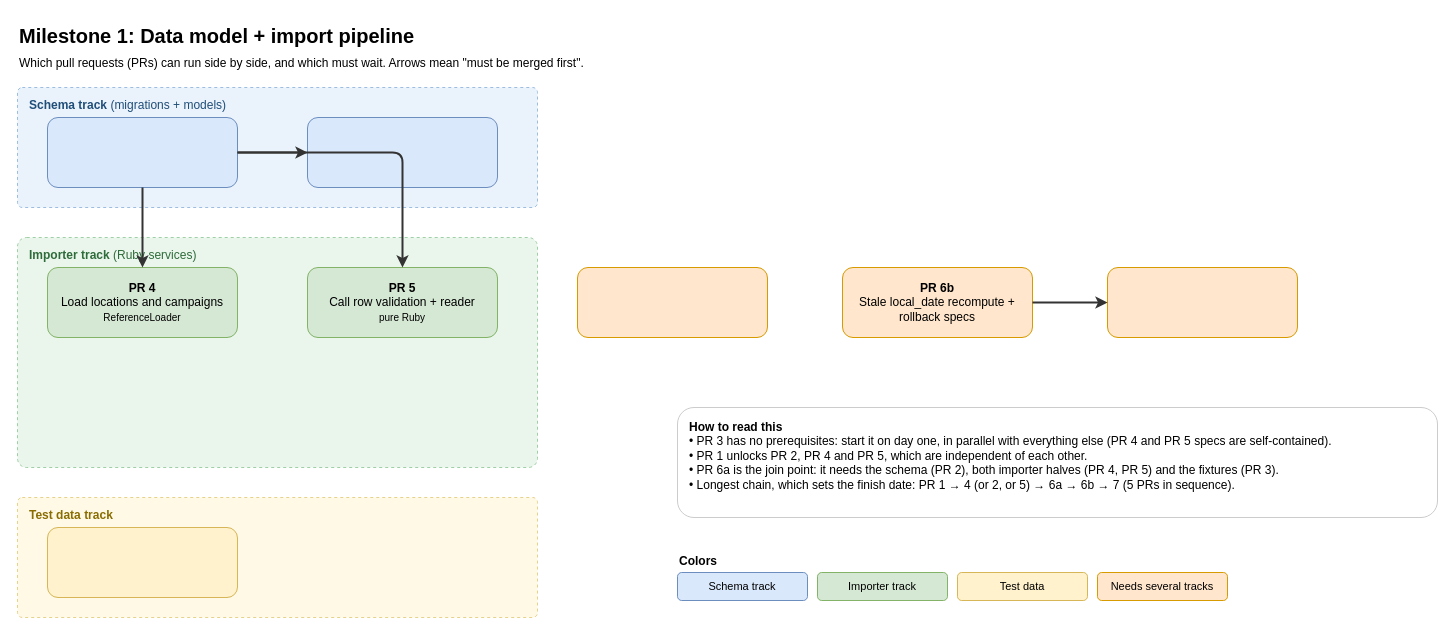
Image size: 1455x635. Some labels were removed from this diagram. The centre of each missing label's shape, as x and y in pixels:
PR 1 Reference tables + channel list migrations, models: the point at 142,152
PR 2 calls table, constraints, indexes migration, model: the point at 402,152
PR 3 Fixture CSVs + helper test data only: the point at 142,562
PR 6a Staging, latest-version upsert, transaction Importer.run: the point at 672,302
PR 7 Seeds, import:all, summary, real data M1 finish line: the point at 1202,302
